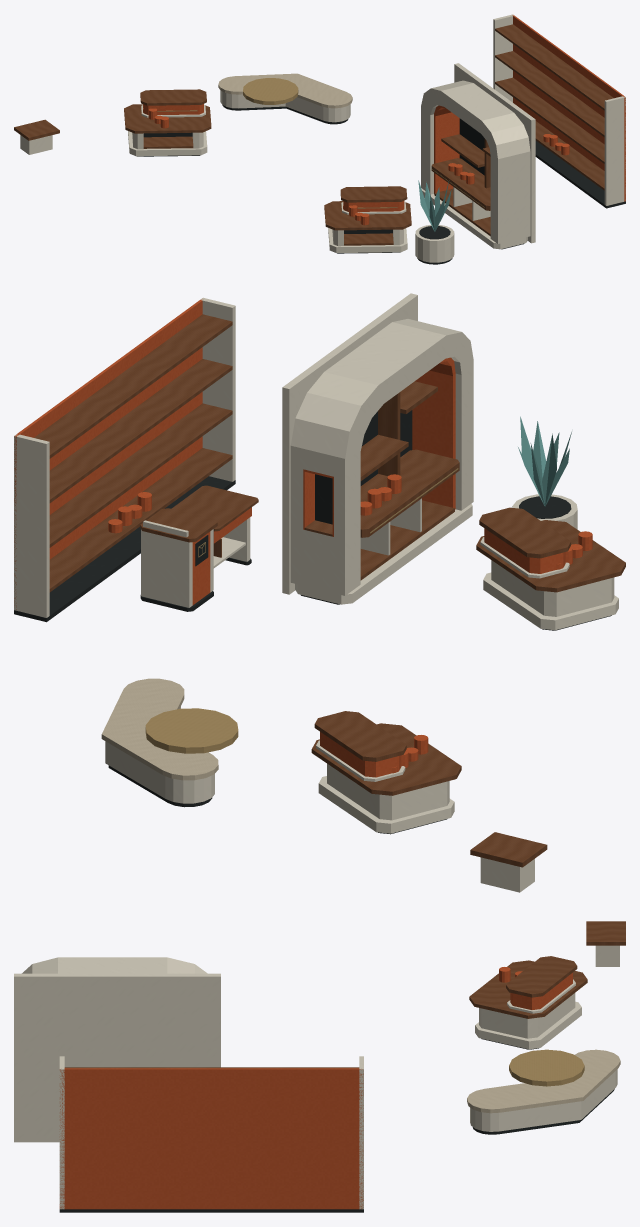
File: SHOP_D09_S100_A132__fitout.glb
3 renders of one model, top to bottom at view 1: azimuth 30°, elevation 25°; view 2: azimuth 150°, elevation 25°; view 3: azimuth 270°, elevation 25°, orthographic. The views are drawn at different scales.
Visible parts, largest first — view 1: SHOP_D09_S100_A132__fitout__ivory_enamel, SHOP_D09_S100_A132__fitout__warm_walnut, SHOP_D09_S100_A132__fitout__retail_terracotta_enamel, SHOP_D09_S100_A132__fitout__dark_rubber, SHOP_D09_S100_A132__fitout__oatmeal_weave, SHOP_D09_S100_A132__fitout__champagne_metal, SHOP_D09_S100_A132__fitout__quiet_teal; view 2: SHOP_D09_S100_A132__fitout__ivory_enamel, SHOP_D09_S100_A132__fitout__warm_walnut, SHOP_D09_S100_A132__fitout__retail_terracotta_enamel, SHOP_D09_S100_A132__fitout__dark_rubber, SHOP_D09_S100_A132__fitout__oatmeal_weave, SHOP_D09_S100_A132__fitout__champagne_metal, SHOP_D09_S100_A132__fitout__quiet_teal; view 3: SHOP_D09_S100_A132__fitout__retail_terracotta_enamel, SHOP_D09_S100_A132__fitout__ivory_enamel, SHOP_D09_S100_A132__fitout__warm_walnut, SHOP_D09_S100_A132__fitout__oatmeal_weave, SHOP_D09_S100_A132__fitout__champagne_metal, SHOP_D09_S100_A132__fitout__dark_rubber.
Boxes of the visible parts, x1=… form: SHOP_D09_S100_A132__fitout__ivory_enamel: x1=20, y1=14, x2=625, y2=262; SHOP_D09_S100_A132__fitout__warm_walnut: x1=14, y1=24, x2=613, y2=245; SHOP_D09_S100_A132__fitout__retail_terracotta_enamel: x1=143, y1=15, x2=625, y2=225; SHOP_D09_S100_A132__fitout__dark_rubber: x1=137, y1=105, x2=625, y2=264; SHOP_D09_S100_A132__fitout__oatmeal_weave: x1=218, y1=73, x2=352, y2=108; SHOP_D09_S100_A132__fitout__champagne_metal: x1=157, y1=78, x2=484, y2=208; SHOP_D09_S100_A132__fitout__quiet_teal: x1=418, y1=180, x2=451, y2=231; SHOP_D09_S100_A132__fitout__ivory_enamel: x1=14, y1=293, x2=618, y2=892; SHOP_D09_S100_A132__fitout__warm_walnut: x1=34, y1=314, x2=625, y2=867; SHOP_D09_S100_A132__fitout__retail_terracotta_enamel: x1=14, y1=299, x2=592, y2=777; SHOP_D09_S100_A132__fitout__dark_rubber: x1=14, y1=410, x2=611, y2=834; SHOP_D09_S100_A132__fitout__oatmeal_weave: x1=101, y1=678, x2=218, y2=780; SHOP_D09_S100_A132__fitout__champagne_metal: x1=145, y1=468, x2=458, y2=753; SHOP_D09_S100_A132__fitout__quiet_teal: x1=518, y1=416, x2=571, y2=506; SHOP_D09_S100_A132__fitout__retail_terracotta_enamel: x1=59, y1=967, x2=572, y2=1209; SHOP_D09_S100_A132__fitout__ivory_enamel: x1=14, y1=945, x2=619, y2=1209; SHOP_D09_S100_A132__fitout__warm_walnut: x1=64, y1=921, x2=625, y2=1068; SHOP_D09_S100_A132__fitout__oatmeal_weave: x1=467, y1=1049, x2=620, y2=1113; SHOP_D09_S100_A132__fitout__champagne_metal: x1=509, y1=1049, x2=584, y2=1086; SHOP_D09_S100_A132__fitout__dark_rubber: x1=59, y1=1038, x2=614, y2=1212.
Size of the model in its own units: 10.25 by 3 by 10.05.
Materials: 7 (6 with a texture image).
